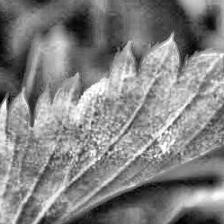Powdery Mildew Leaf: (0, 30, 224, 224)
